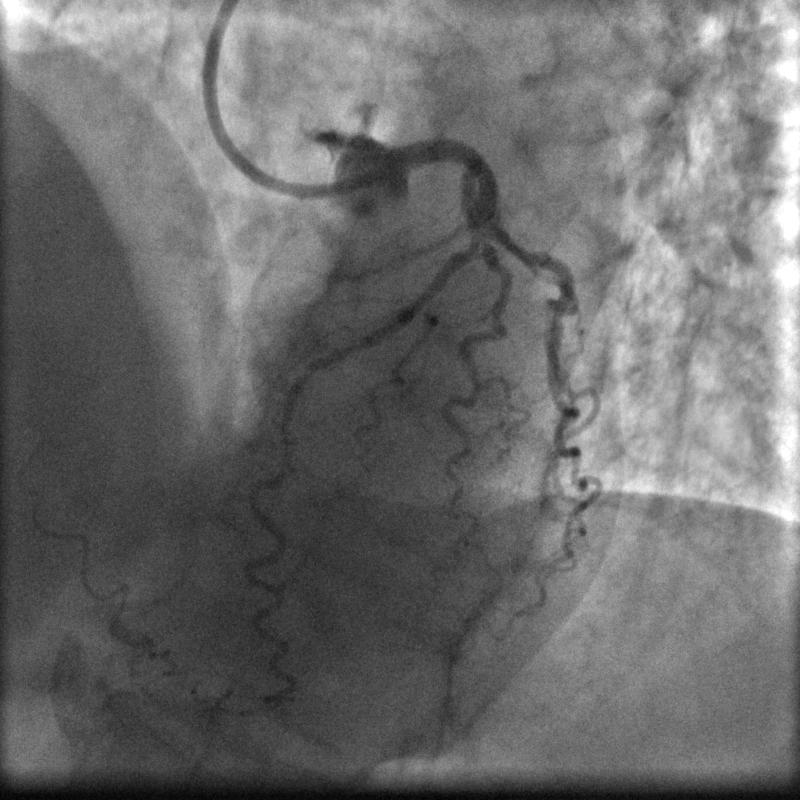Stenosis: (464, 224, 493, 258)
